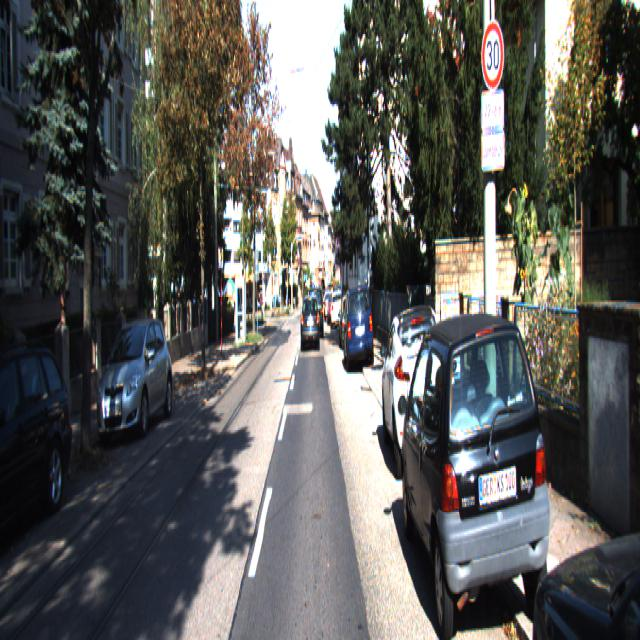Car: (400, 301, 554, 638), (523, 330, 640, 638), (0, 331, 78, 566), (381, 295, 455, 488), (93, 315, 173, 446), (343, 282, 375, 376), (300, 294, 320, 353), (308, 283, 324, 338), (331, 290, 344, 331)
